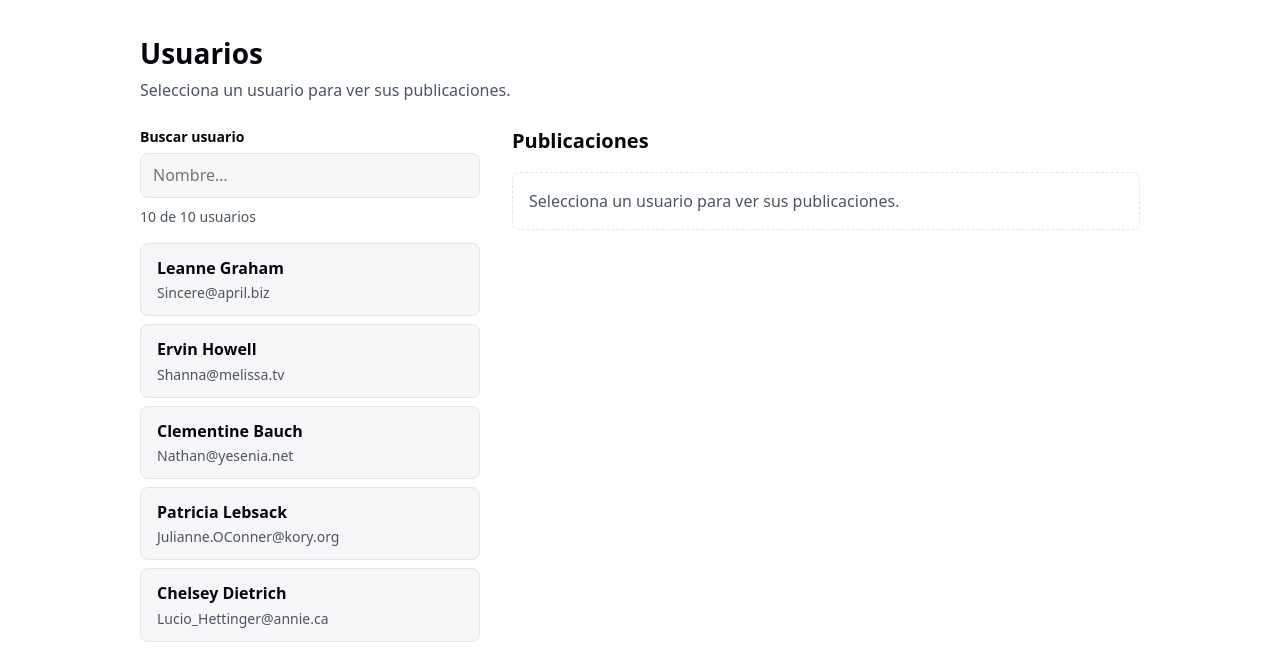
Test case: publicaciones por usuario › muestra las publicaciones del usuario seleccionado
Click the button "Leanne Graham Sincere@april.biz". click: (220, 268)
box: [140,243,480,316]
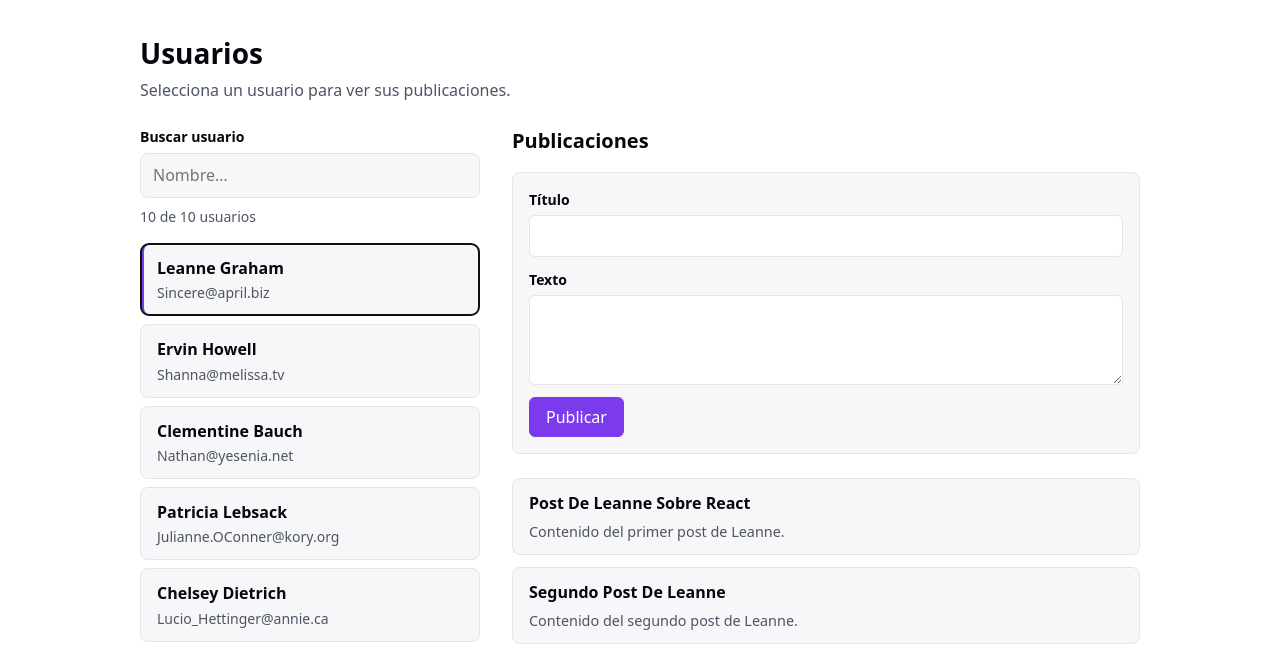
Check: the heading "Publicaciones" is shown, box [512,127,649,154]
Check: the heading "Post de Leanne sobre React" is shown, box [529,492,750,514]
Check: the heading "Segundo post de Leanne" is shown, box [529,581,726,603]
